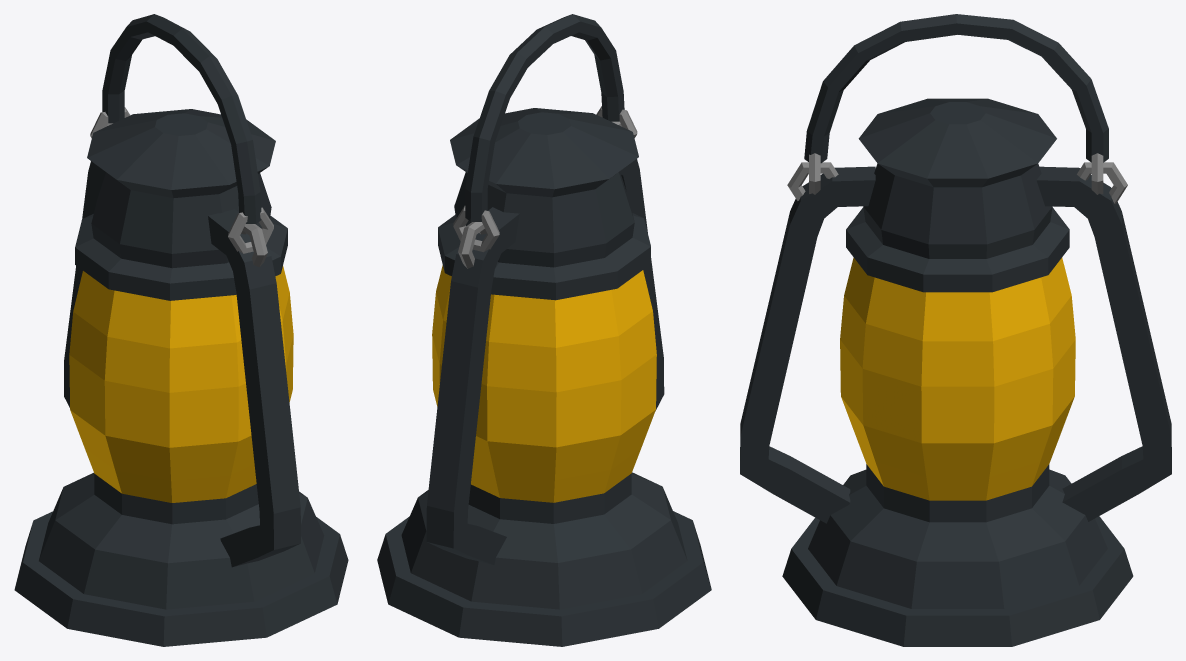
Rendered from Old Lantern.fbx.
3 renders of one model, left to right at view 1: azimuth 30°, elevation 25°; view 2: azimuth 150°, elevation 25°; view 3: azimuth 270°, elevation 25°, orthographic. The views are drawn at different scales.
Parts seen in each view (by area): view 1: Cube.001; view 2: Cube.001; view 3: Cube.001.
Boxes of the visible parts, x1,y1,x2,y2 form: Cube.001: (14,14,348,646); Cube.001: (377,14,711,646); Cube.001: (740,14,1171,646).
Size of the model in its own units: 111 by 207 by 144.
